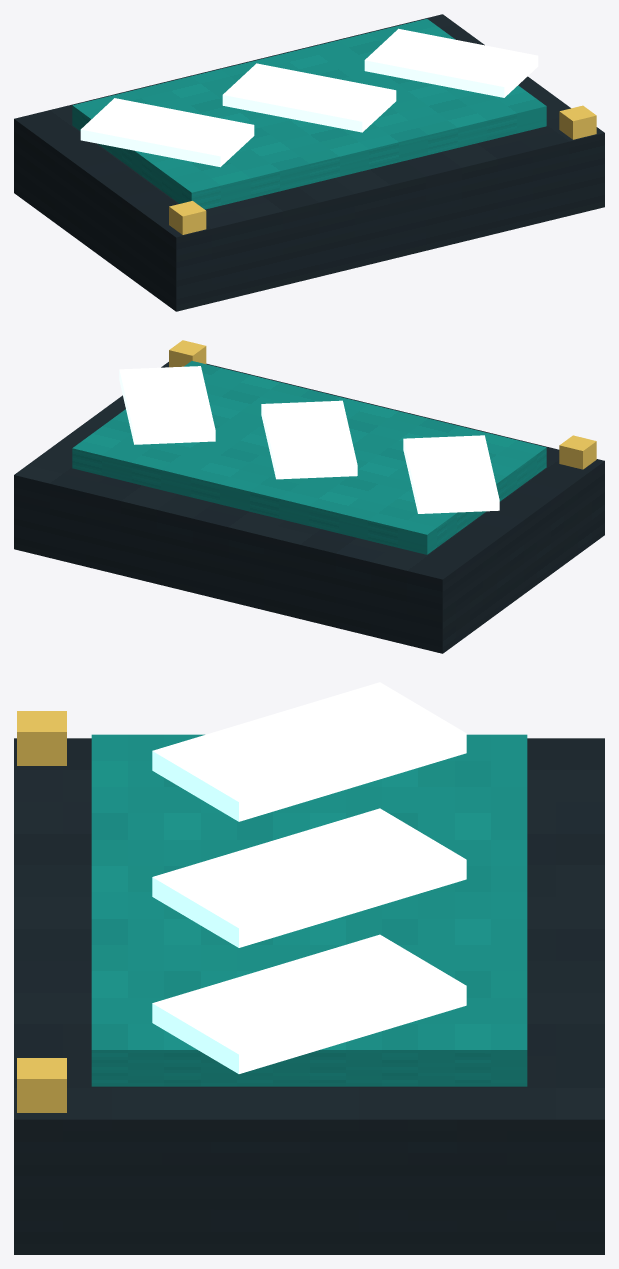
Rendered from bp_bouncepad.glb.
3 views of the same model, one above another, from view 1: azimuth 30°, elevation 25°; view 2: azimuth 150°, elevation 25°; view 3: azimuth 270°, elevation 25° (orthographic). The views are drawn at different scales.
Parts seen in each view (by area): view 1: pad_base, pad_glow, pad_chevron.002, pad_chevron, pad_chevron.001, pad_warning, pad_warning.001; view 2: pad_base, pad_glow, pad_chevron.001, pad_chevron.002, pad_chevron, pad_warning, pad_warning.001; view 3: pad_base, pad_glow, pad_chevron, pad_chevron.001, pad_chevron.002, pad_warning, pad_warning.001.
Boxes of the visible parts, x1,y1,x2,y2 form: pad_base: [14, 14, 604, 311]; pad_glow: [72, 19, 546, 209]; pad_chevron.002: [364, 28, 538, 97]; pad_chevron: [80, 98, 254, 167]; pad_chevron.001: [222, 63, 396, 132]; pad_warning: [169, 201, 206, 234]; pad_warning.001: [559, 105, 596, 139]; pad_base: [14, 362, 604, 653]; pad_glow: [72, 361, 546, 554]; pad_chevron.001: [261, 400, 357, 479]; pad_chevron.002: [119, 366, 215, 444]; pad_chevron: [403, 435, 499, 513]; pad_warning: [559, 435, 596, 469]; pad_warning.001: [169, 340, 206, 367]; pad_base: [14, 738, 604, 1254]; pad_glow: [91, 734, 527, 1086]; pad_chevron: [152, 682, 466, 821]; pad_chevron.001: [152, 808, 466, 947]; pad_chevron.002: [152, 934, 466, 1073]; pad_warning: [17, 711, 66, 765]; pad_warning.001: [17, 1058, 66, 1112].
Size of the model in its own units: 1.45 by 0.3475 by 0.9501.
Materials: 4 (2 with a texture image).
